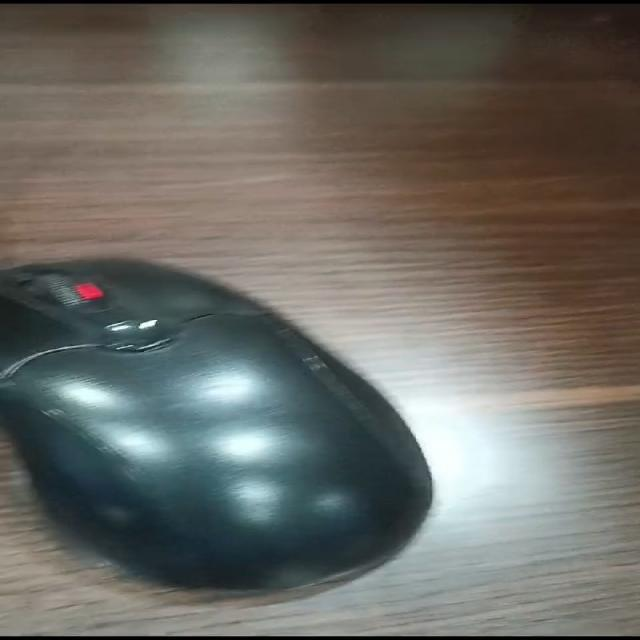mouse: (3, 180, 471, 616)
